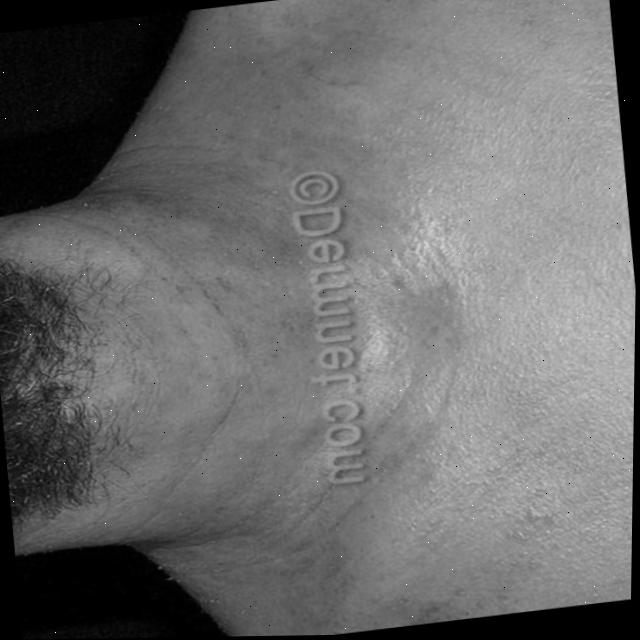Eczema: (91, 118, 468, 576)
